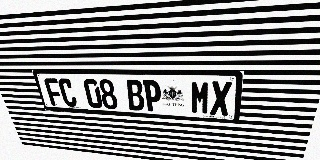0: (82, 79, 103, 109)
8: (98, 79, 118, 109)
B: (125, 80, 145, 111)
C: (57, 78, 78, 107)
F: (43, 78, 65, 106)
M: (191, 81, 210, 115)
P: (142, 80, 162, 112)
X: (210, 81, 232, 116)
